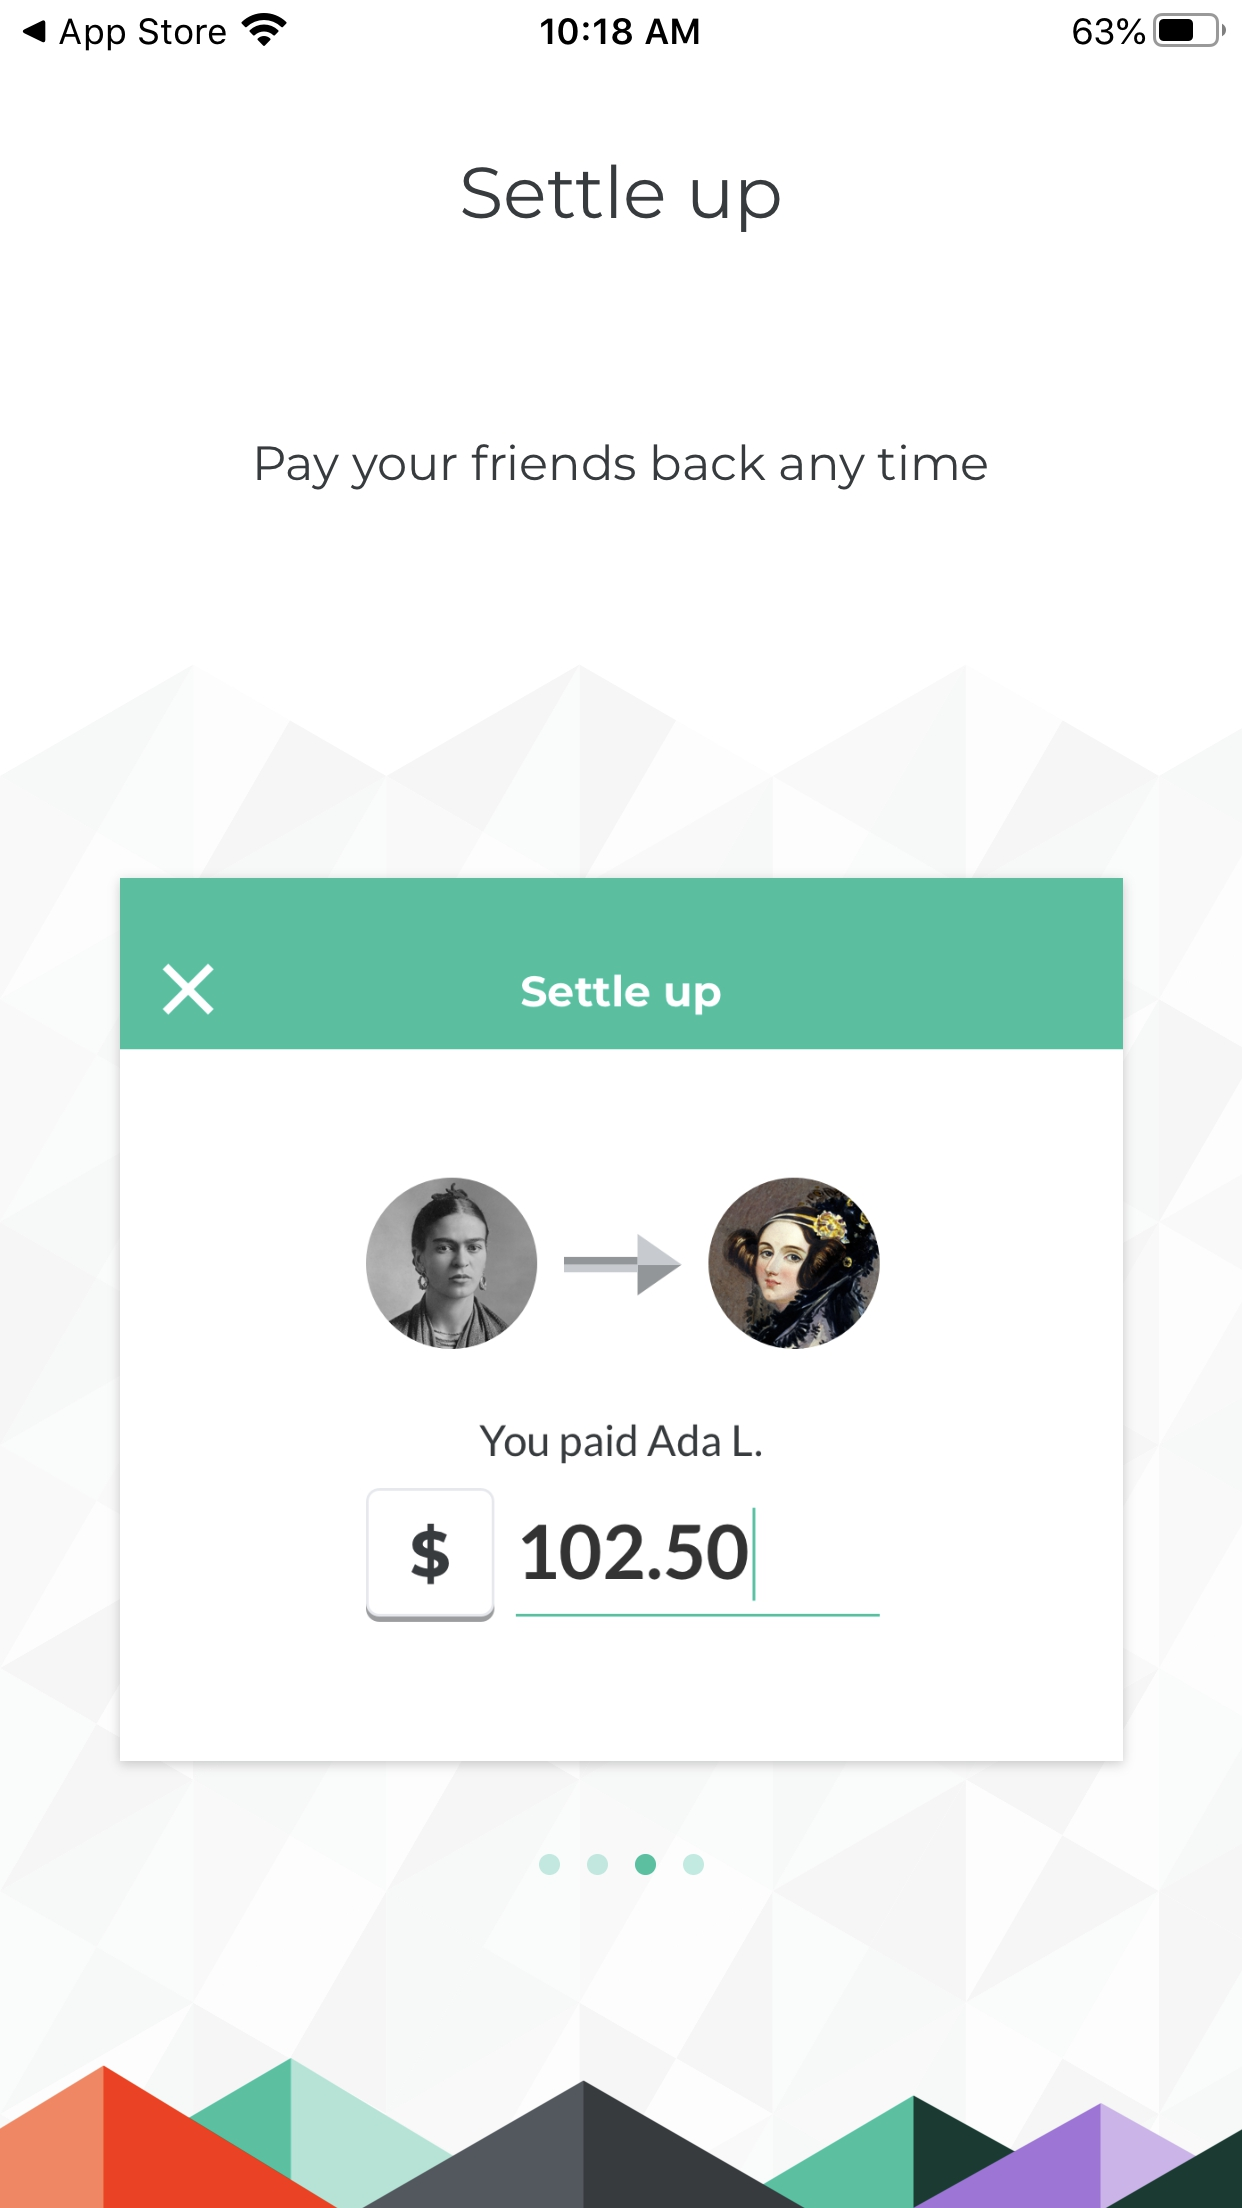Image: (120, 878, 1124, 1761), (2, 2058, 1242, 2208)
PageIndicator: (538, 1855, 704, 1876)
Text: (256, 444, 987, 490), (463, 164, 779, 232)
UpperTaskBar: (2, 2, 1242, 52)
